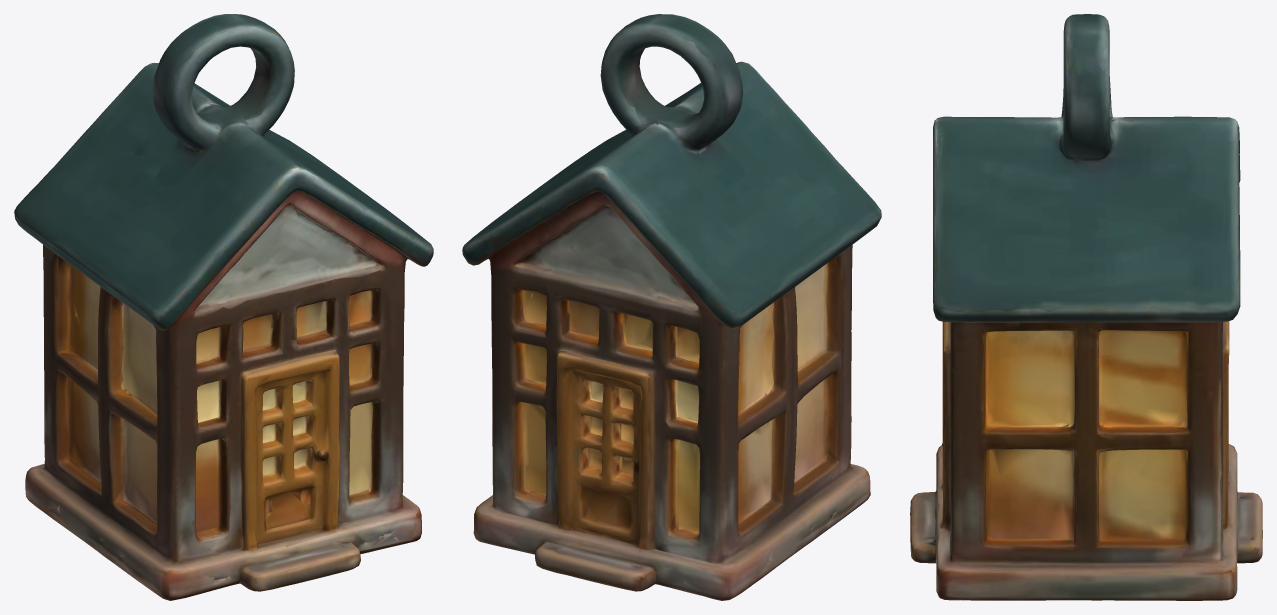
File: sc-home-lantern.glb
3 views of the same model, side by side, from view 1: azimuth 30°, elevation 25°; view 2: azimuth 150°, elevation 25°; view 3: azimuth 270°, elevation 25° (orthographic). The views are drawn at different scales.
Visible parts, largest first — view 1: geometry_0; view 2: geometry_0; view 3: geometry_0.
Boxes of the visible parts, x1,y1,x2,y2 form: geometry_0: (14, 14, 433, 600); geometry_0: (462, 14, 881, 600); geometry_0: (910, 14, 1262, 600).
Bounding box in the file's own units: 0.5938 × 1 × 0.6228.
Materials: 1 (1 with a texture image).
